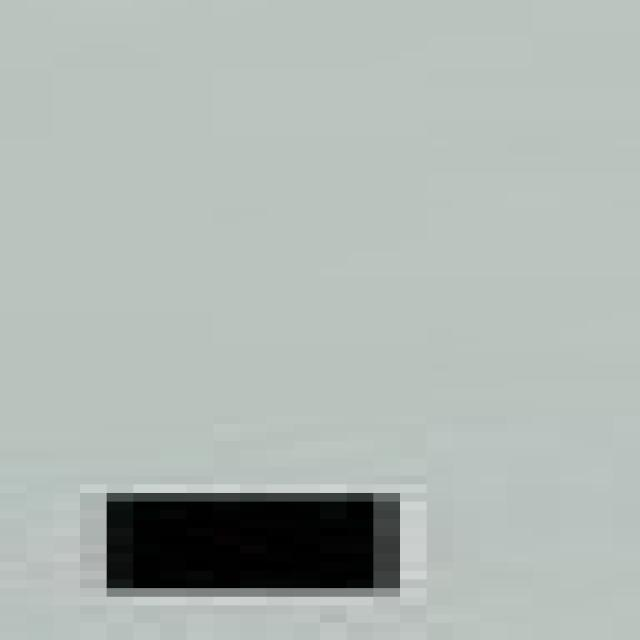.: (39, 464, 534, 628)
